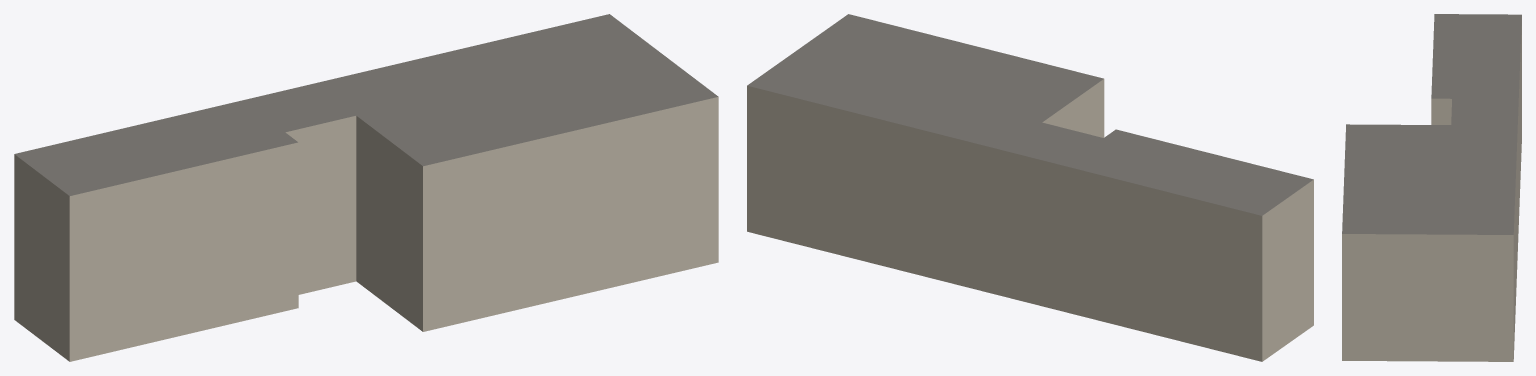
3 views of the same model, side by side, from view 1: azimuth 30°, elevation 25°; view 2: azimuth 150°, elevation 25°; view 3: azimuth 270°, elevation 25° (orthographic). The views are drawn at different scales.
Parts seen in each view (by area): view 1: HP-w177930859; view 2: HP-w177930859; view 3: HP-w177930859.
Boxes of the visible parts, left/top/right/bottom form: HP-w177930859: left=14, top=14, right=718, bottom=361; HP-w177930859: left=747, top=14, right=1313, bottom=361; HP-w177930859: left=1342, top=14, right=1521, bottom=361.
Size of the model in its own units: 67.23 by 18 by 23.12.
